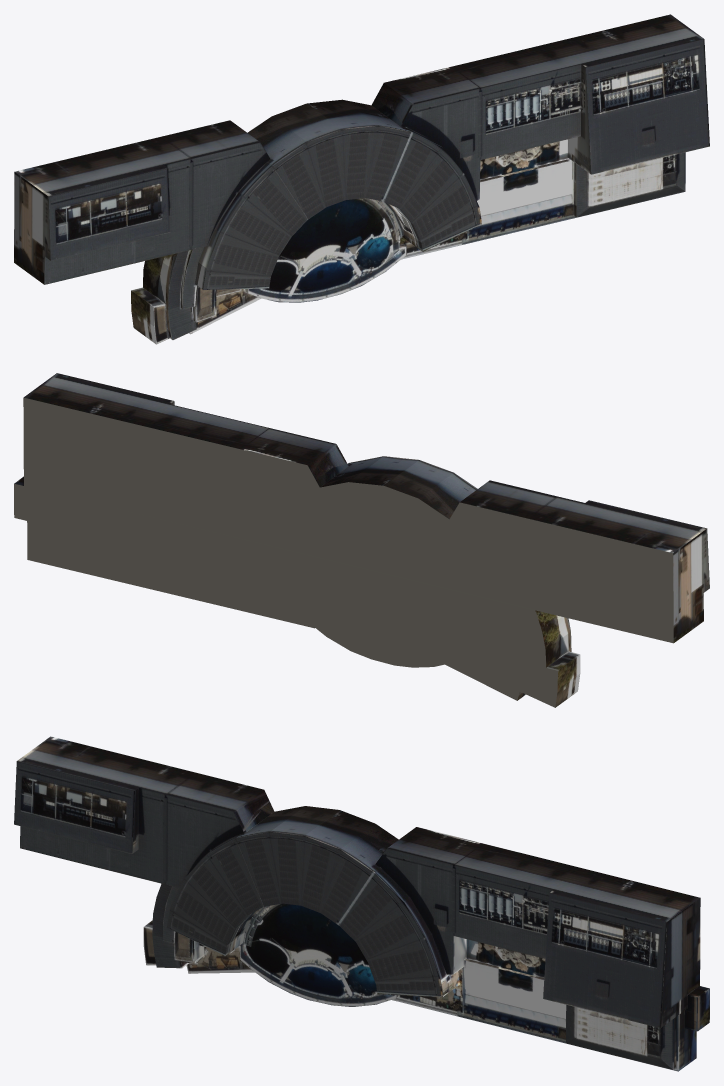
File: Aquarium.fbx
3 views of the same model, one above another, from view 1: azimuth 30°, elevation 25°; view 2: azimuth 150°, elevation 25°; view 3: azimuth 330°, elevation 25° (orthographic).
Parts seen in each view (by area): view 1: bldg_b1b5e06c-47c2-4e90-91f5-d921b3875401; view 2: bldg_b1b5e06c-47c2-4e90-91f5-d921b3875401; view 3: bldg_b1b5e06c-47c2-4e90-91f5-d921b3875401.
Boxes of the visible parts, bbox=[...] form: bldg_b1b5e06c-47c2-4e90-91f5-d921b3875401: bbox=[14, 14, 709, 344]; bldg_b1b5e06c-47c2-4e90-91f5-d921b3875401: bbox=[14, 373, 709, 707]; bldg_b1b5e06c-47c2-4e90-91f5-d921b3875401: bbox=[14, 736, 709, 1071].
Bounding box in the file's own units: 168 × 17.34 × 45.09.
Materials: 2 (2 with a texture image).
